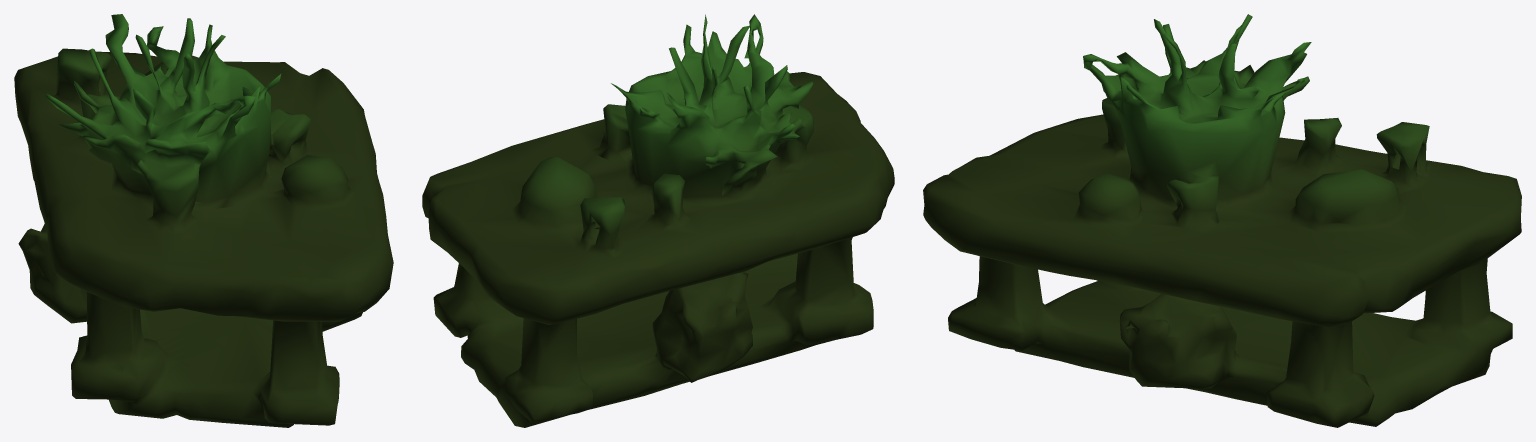
The model's file is supply-table.glb.
3 renders of one model, left to right at view 1: azimuth 30°, elevation 25°; view 2: azimuth 150°, elevation 25°; view 3: azimuth 270°, elevation 25°, orthographic. The views are drawn at different scales.
Visible parts, largest first — view 1: supply-table; view 2: supply-table; view 3: supply-table.
Part boxes in pixels (bbox=[...]): supply-table: bbox=[14, 14, 393, 427]; supply-table: bbox=[422, 14, 894, 427]; supply-table: bbox=[923, 14, 1521, 427].
Bounding box in the file's own units: 0.0112 × 0.00918 × 0.0154.
